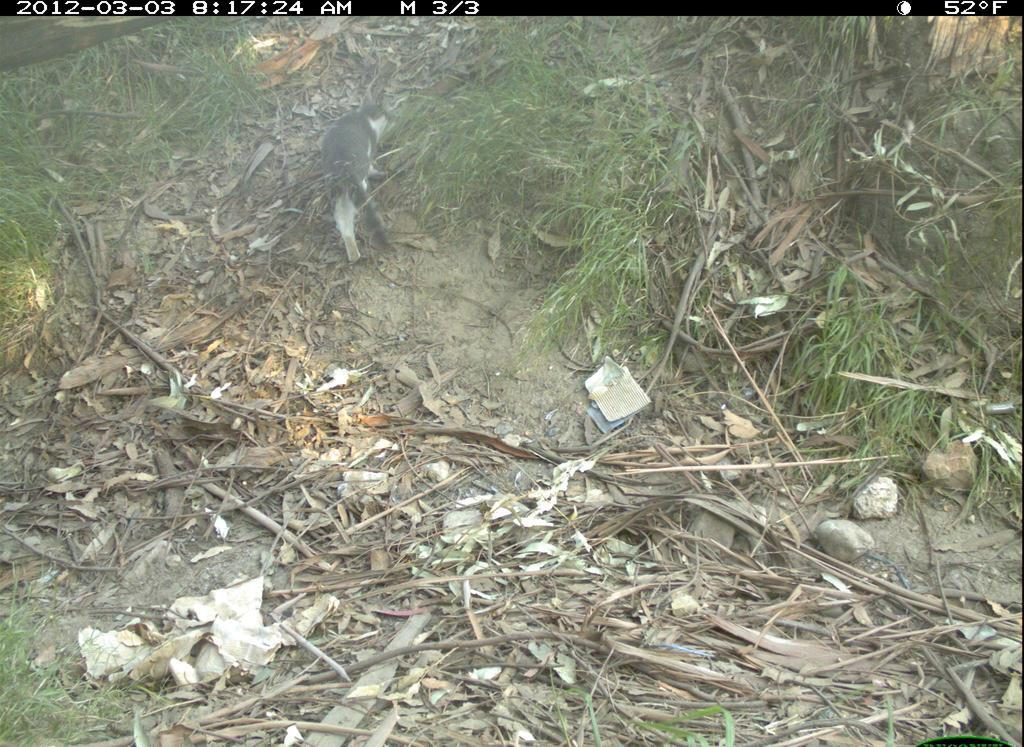cat: (319, 97, 405, 271)
